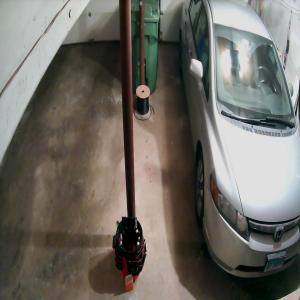garbage bin: (130, 0, 160, 96)
honda civic: (178, 0, 300, 279)
tool bucket: (112, 215, 147, 292)
